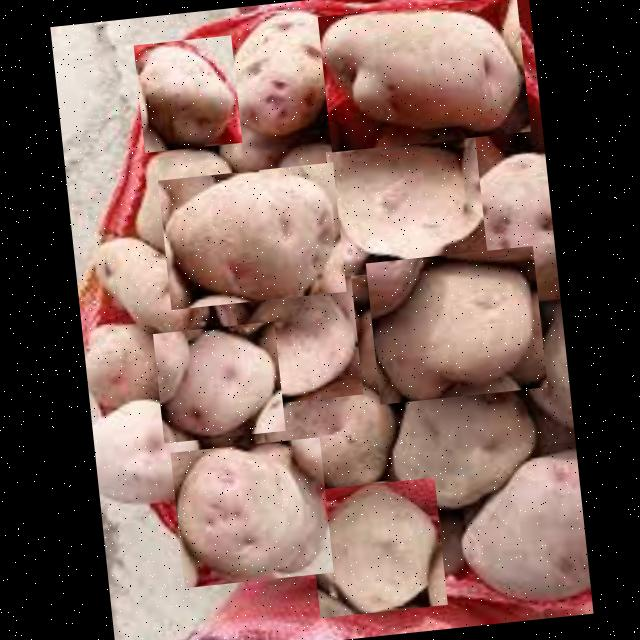Diseased-fungal potato: (316, 0, 529, 152), (364, 246, 546, 404), (157, 162, 346, 310), (169, 437, 332, 588), (324, 136, 486, 277), (306, 477, 446, 618), (218, 2, 346, 145), (232, 274, 362, 406), (152, 321, 284, 443), (132, 34, 241, 152)
